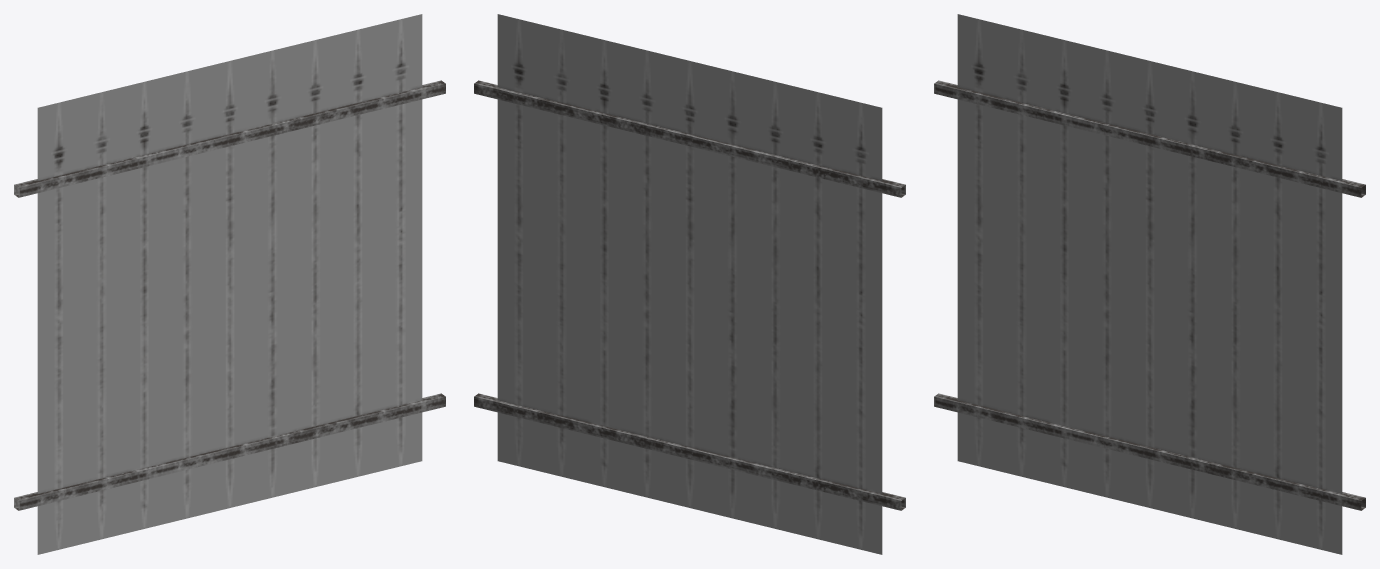
File: Metal Fence 1 half LOD.fbx
3 renders of one model, left to right at view 1: azimuth 30°, elevation 25°; view 2: azimuth 150°, elevation 25°; view 3: azimuth 330°, elevation 25°, orthographic.
Parts seen in each view (by area): view 1: Metal Fence 1 half LOD; view 2: Metal Fence 1 half LOD; view 3: Metal Fence 1 half LOD.
Part boxes in pixels (x1,y1,x2,y2): Metal Fence 1 half LOD: [14, 14, 445, 554]; Metal Fence 1 half LOD: [474, 14, 905, 554]; Metal Fence 1 half LOD: [934, 14, 1365, 554].
Size of the model in its own units: 200 by 200 by 3.57.
Materials: 1 (1 with a texture image).
